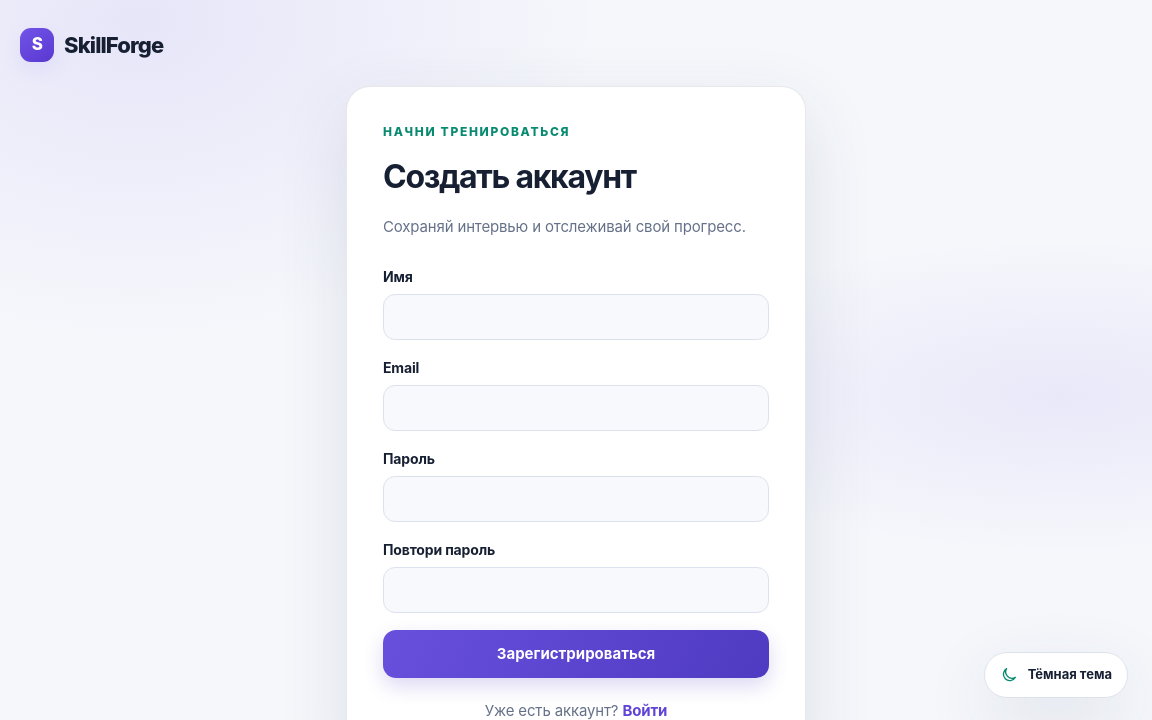
Scenario: authentication pages › prevents registration when password confirmation does not match
Type "Ada Lovelace" into the field labelled "Имя". click: (576, 317)
box: [383,294,769,340]
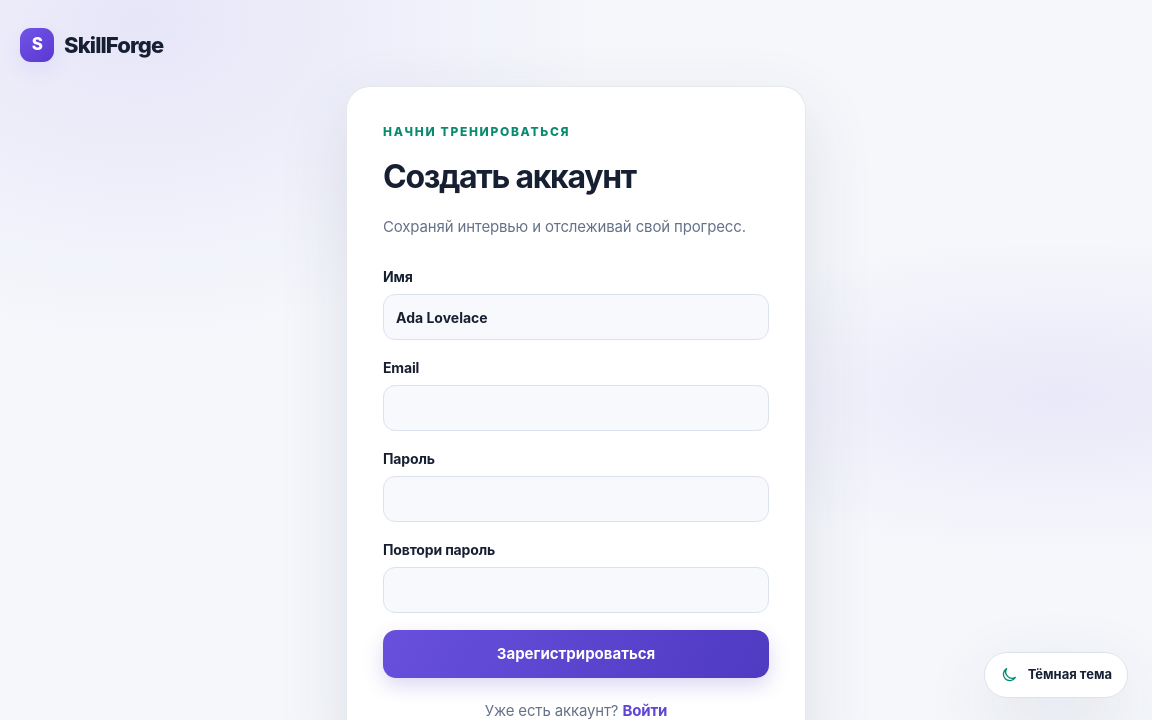
Type "ada@example.com" into the field labelled "Email". click: (576, 408)
box: [383,385,769,431]
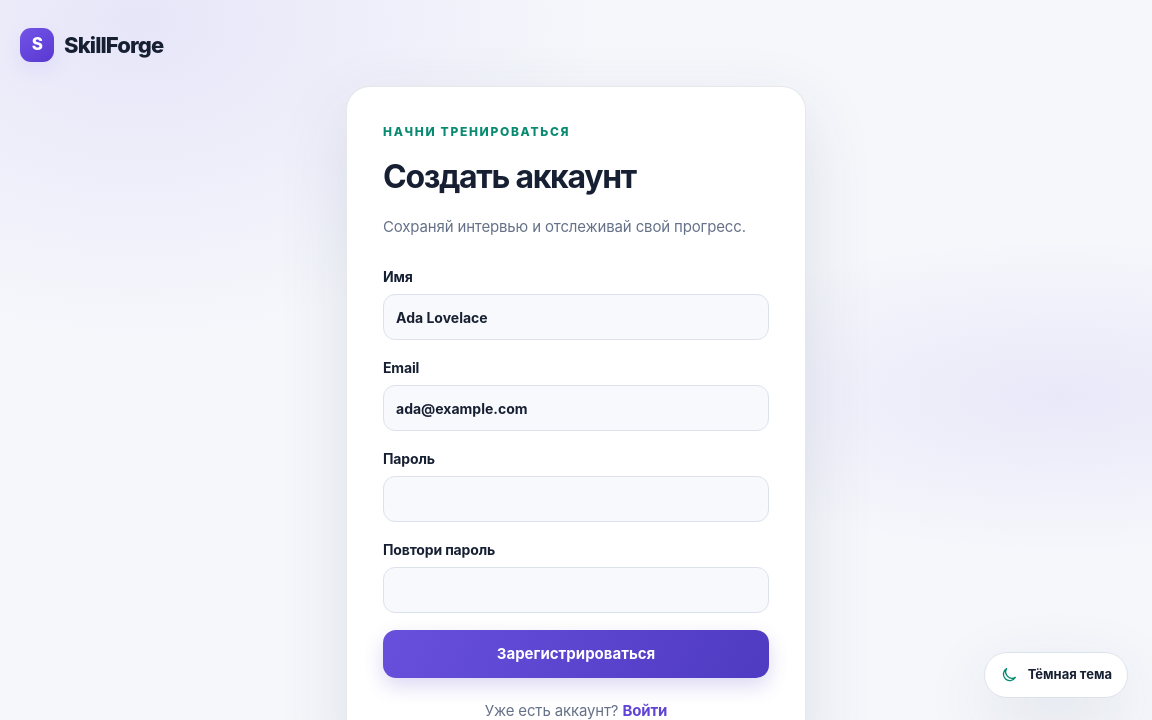
Type "correct horse" into the password field labelled "Пароль". click: (576, 499)
box: [383,476,769,522]
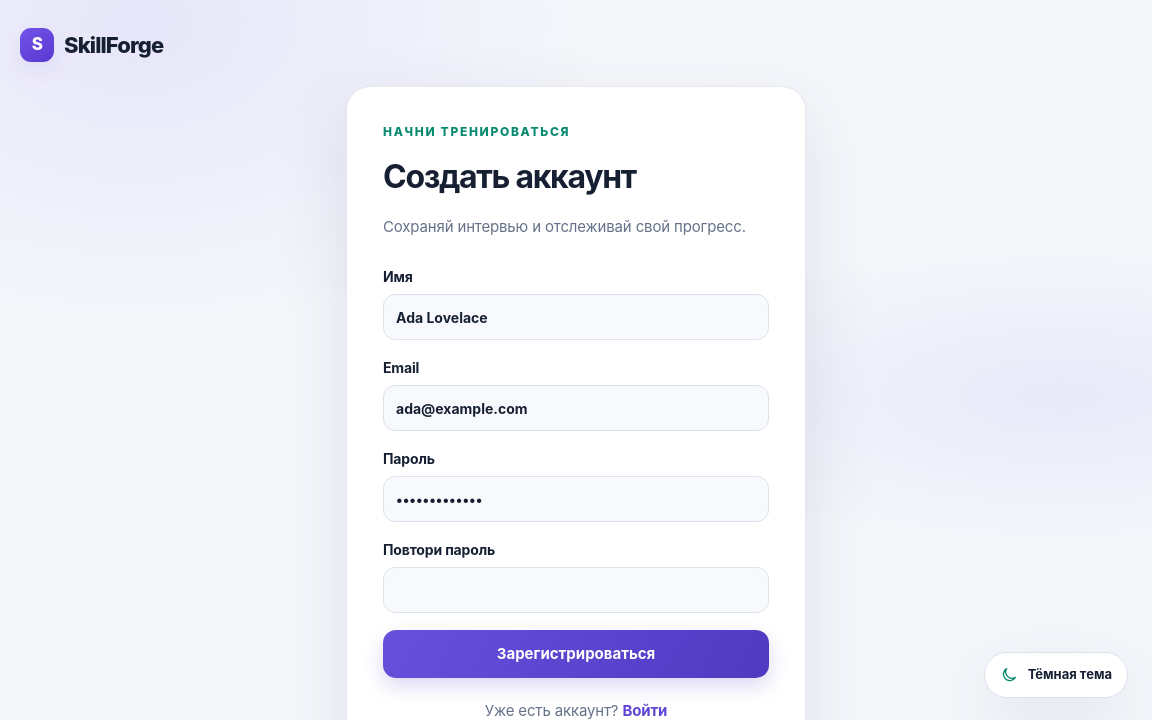
Type "different password" into the password field labelled "Повтори пароль". click: (576, 590)
box: [383,567,769,613]
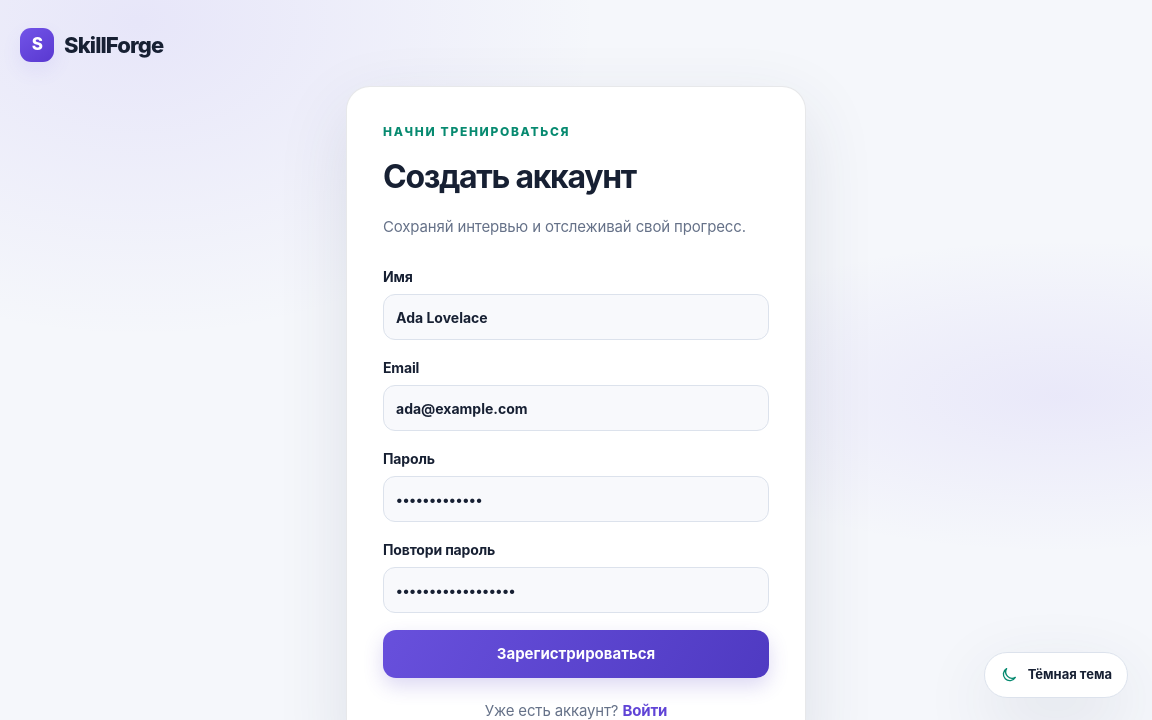
Click the button "Зарегистрироваться". click: (576, 654)
box: [383,630,769,678]
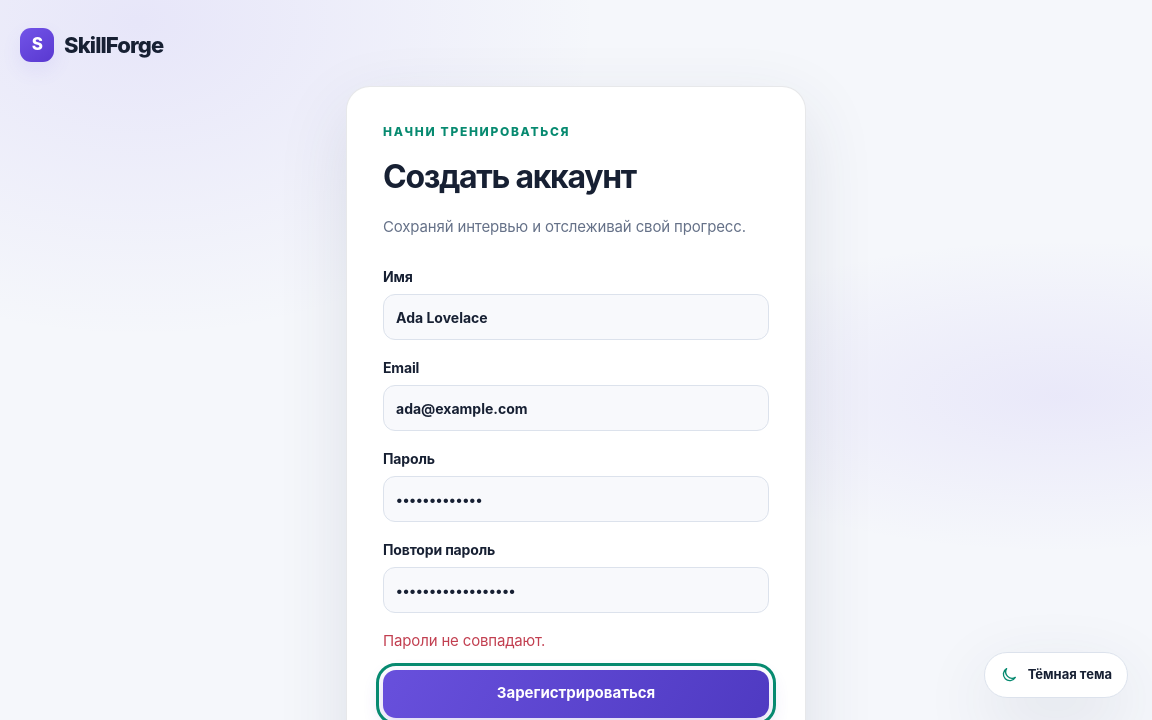
Expected: the message reads "Пароли не совпадают.", [383,631,545,650]
